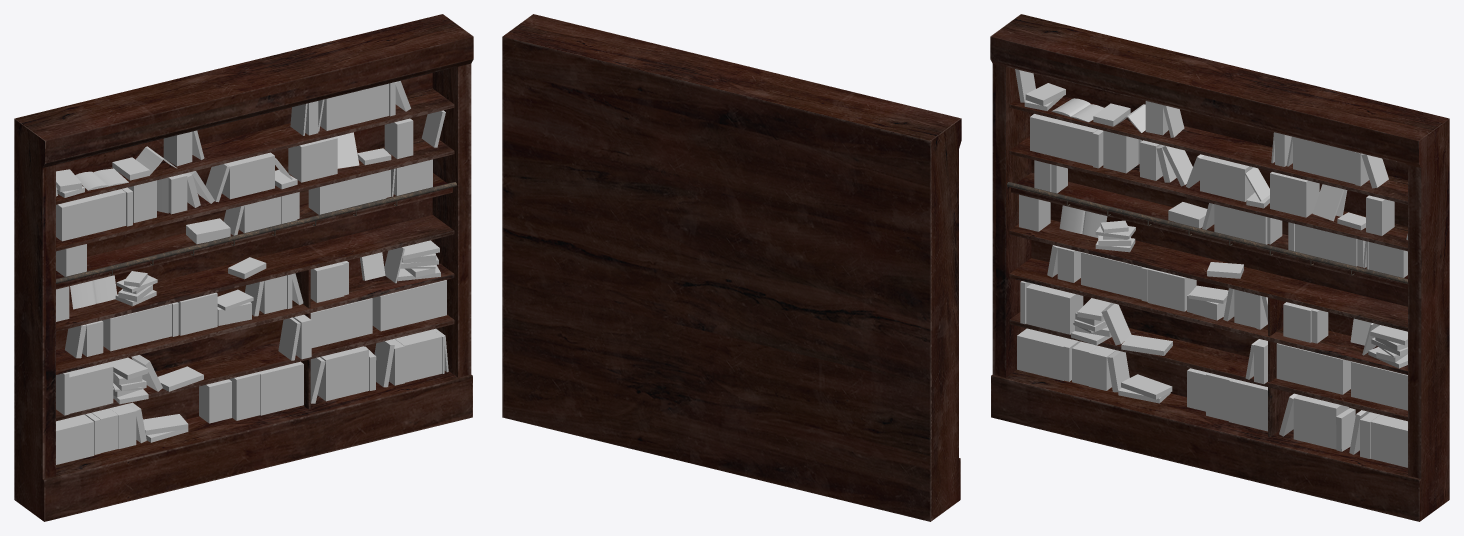
File: SM_BookcaseC.FBX
3 renders of one model, left to right at view 1: azimuth 30°, elevation 25°; view 2: azimuth 150°, elevation 25°; view 3: azimuth 330°, elevation 25°, orthographic.
Parts seen in each view (by area): view 1: SM_BookcaseC_LOD0; view 2: SM_BookcaseC_LOD0; view 3: SM_BookcaseC_LOD0.
Boxes of the visible parts, x1,y1,x2,y2 form: SM_BookcaseC_LOD0: (14,14,473,521); SM_BookcaseC_LOD0: (502,14,961,521); SM_BookcaseC_LOD0: (990,14,1449,521).
Size of what is drawn, in the model's own units: 400 by 340 by 50.
